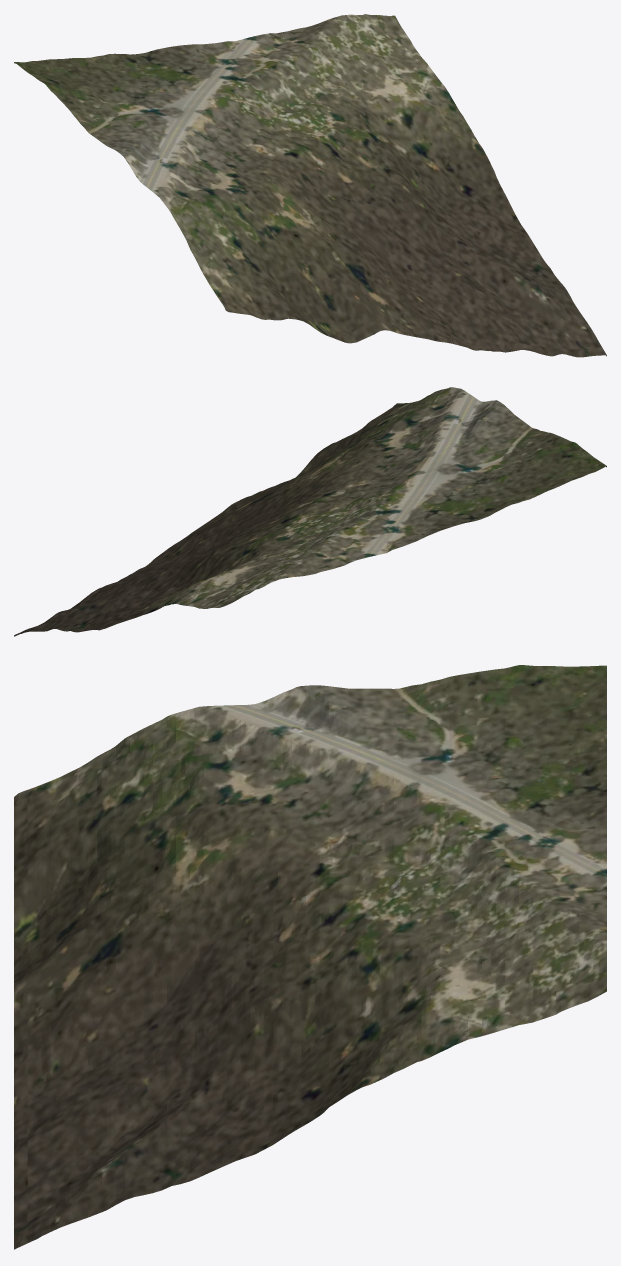
The picture shows the model from 3 angles, top to bottom: view 1: azimuth 30°, elevation 25°; view 2: azimuth 210°, elevation 25°; view 3: azimuth 270°, elevation 25°; orthographic projection. The views are drawn at different scales.
Bounding box in the file's own units: 250 × 146 × 241.
Materials: 1 (1 with a texture image).
